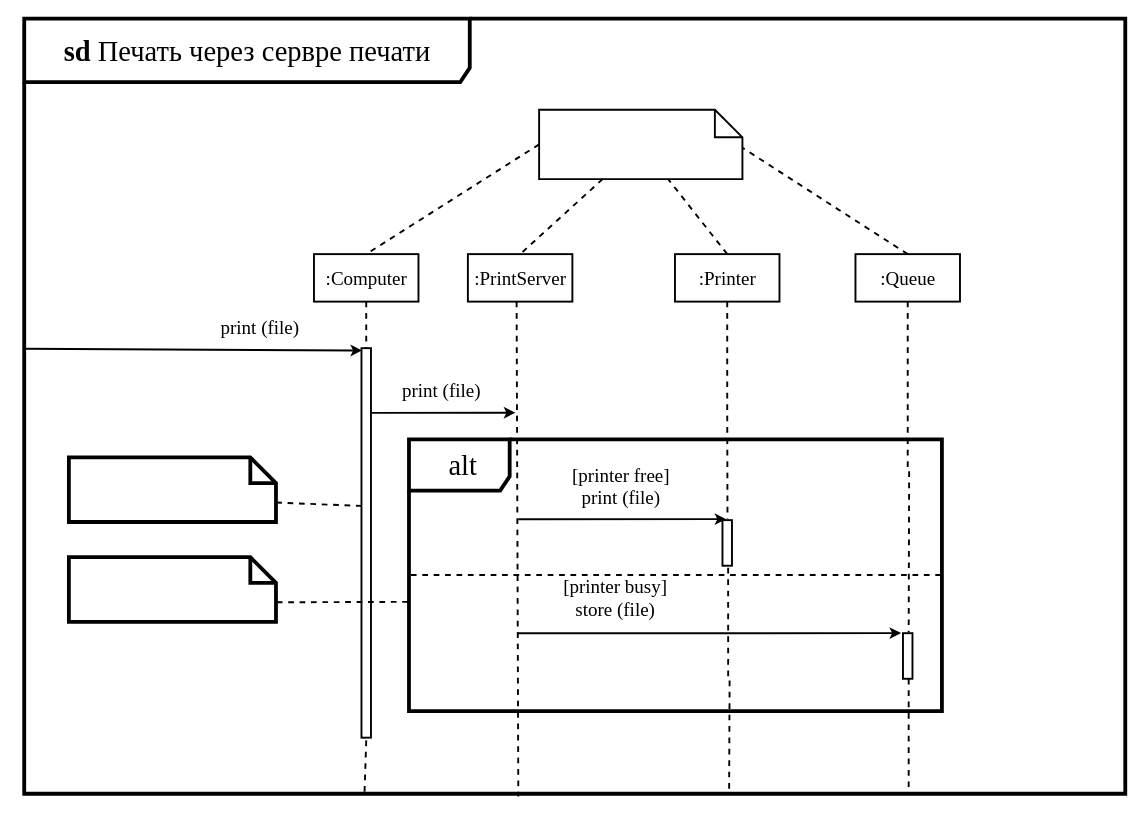
The diagram is 1143 pixels wide and 814 high, and some of its shapes have lost their labels. The shapes that lost their labels are listed below. From the top down, each one's box as (x1, y1, x2, y2) in pixels, then its label:
(538, 108, 743, 180): Взаимодействующие классификаторы
(66, 455, 277, 523): Поток управления / активация объекта
(66, 555, 277, 623): Составной шаг взаимодействия
